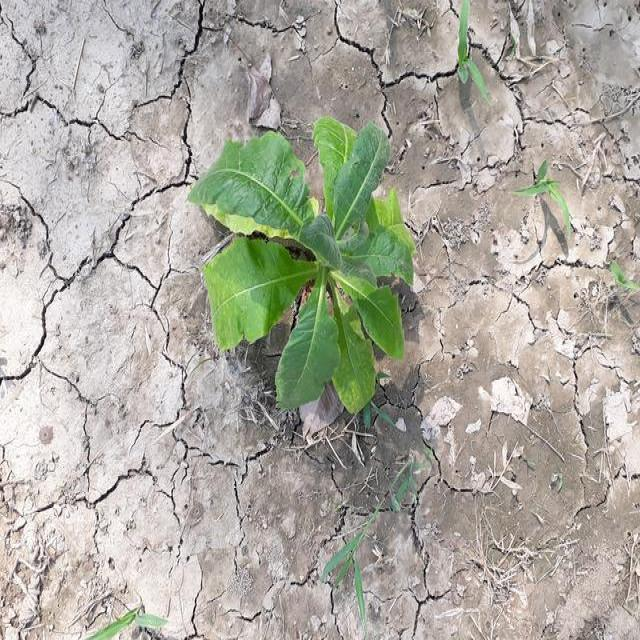crop: (190, 112, 418, 410)
